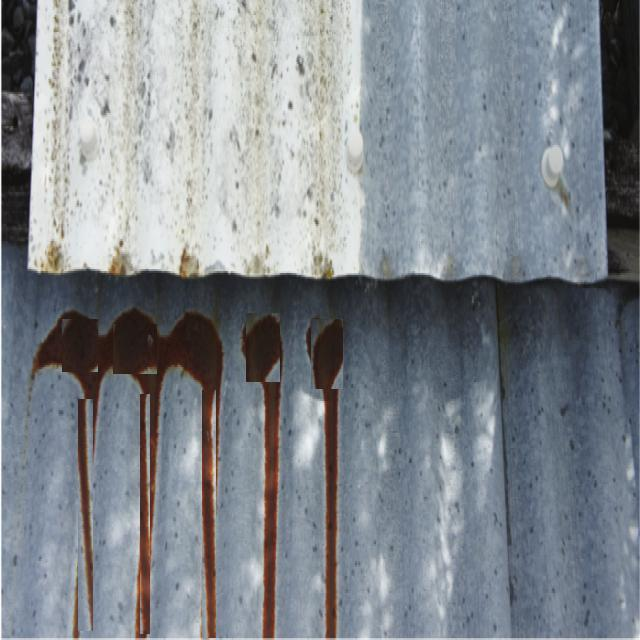Corrosion: (32, 309, 222, 640), (186, 316, 223, 636), (307, 319, 344, 638), (243, 315, 284, 544), (262, 382, 281, 640)
